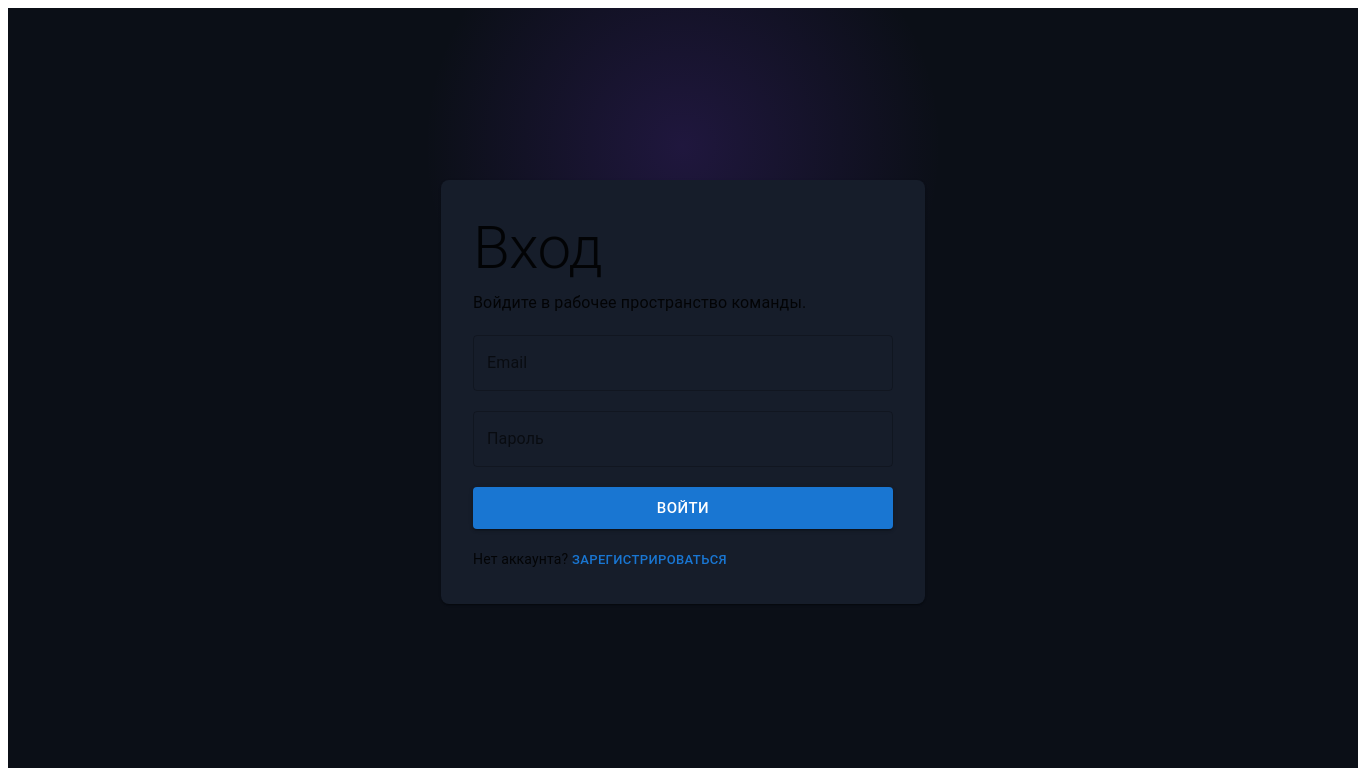
it: LoginPage › switches to sign-up mode without leaving the login route
Click the button "Зарегистрироваться".
click(649, 560)  # box [572,549,727,572]
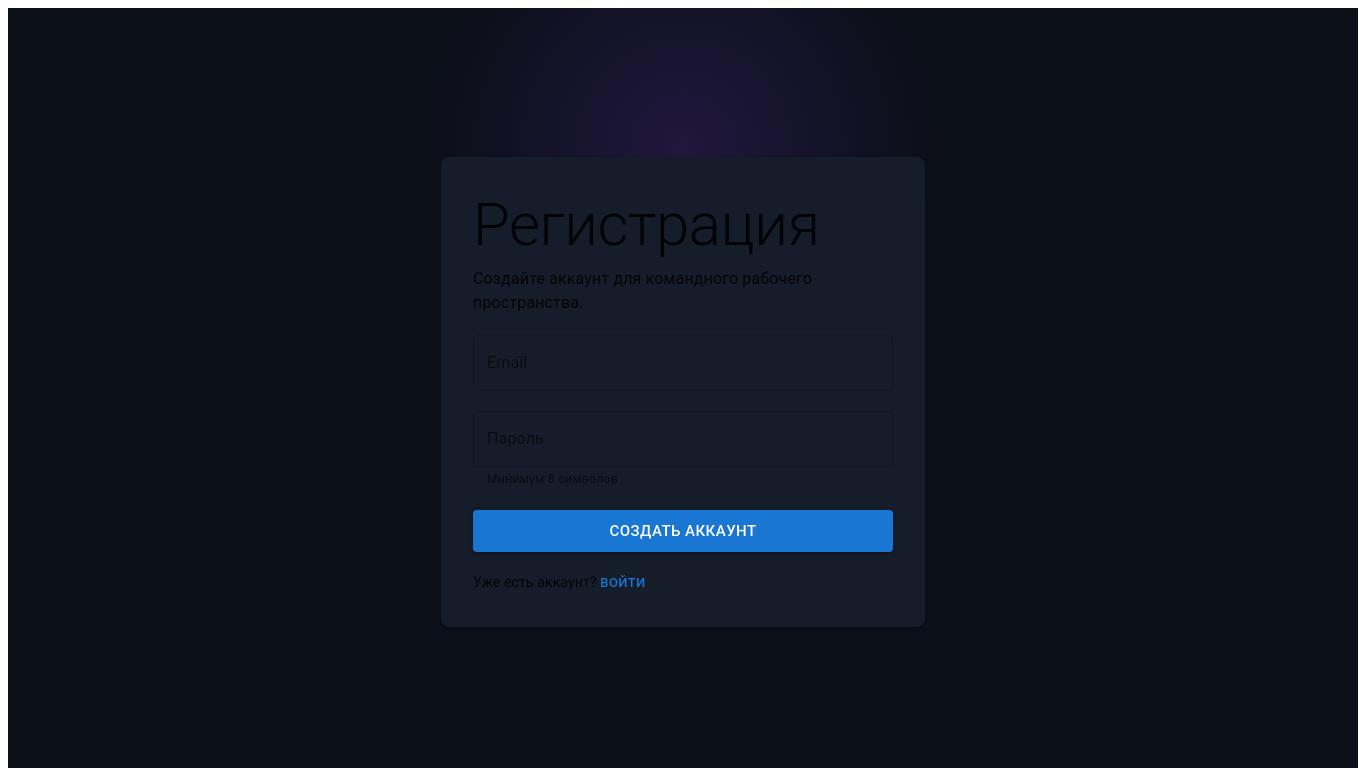
Check: the heading "Регистрация" is shown, box [473,189,820,260]
Check: the button "Создать аккаунт" is shown, box [473,510,893,552]
